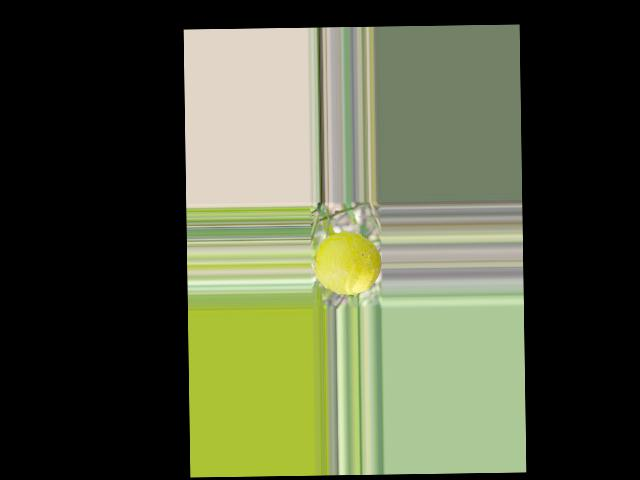lemon: (315, 227, 382, 299)
